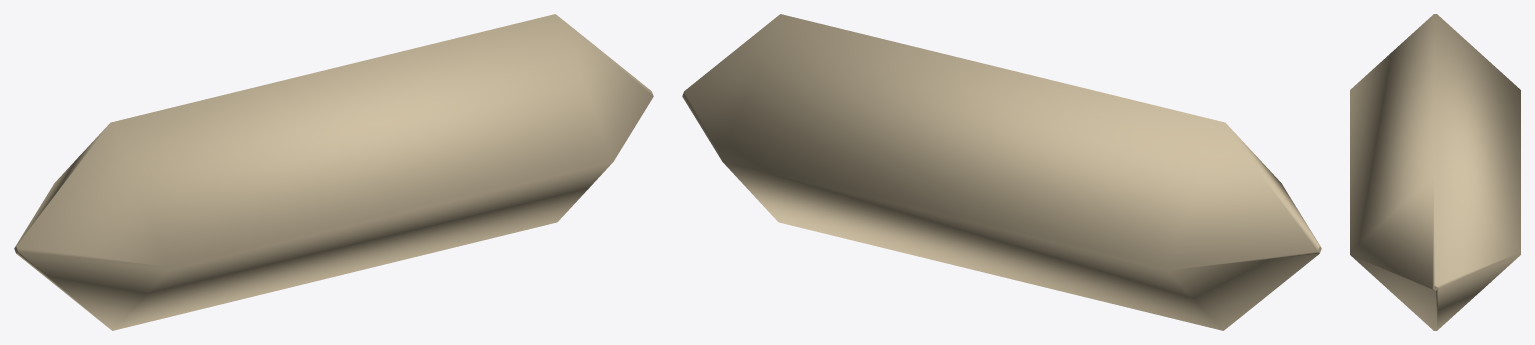
File: t60_water.obj
3 renders of one model, left to right at view 1: azimuth 30°, elevation 25°; view 2: azimuth 150°, elevation 25°; view 3: azimuth 270°, elevation 25°, orthographic. The views are drawn at different scales.
Parts seen in each view (by area): view 1: t60_water; view 2: t60_water; view 3: t60_water.
Boxes of the visible parts, x1=… form: t60_water: x1=14, y1=14, x2=653, y2=330; t60_water: x1=682, y1=14, x2=1321, y2=330; t60_water: x1=1350, y1=14, x2=1520, y2=330.
Size of the model in its own units: 3.6 by 1.12 by 1.12.
